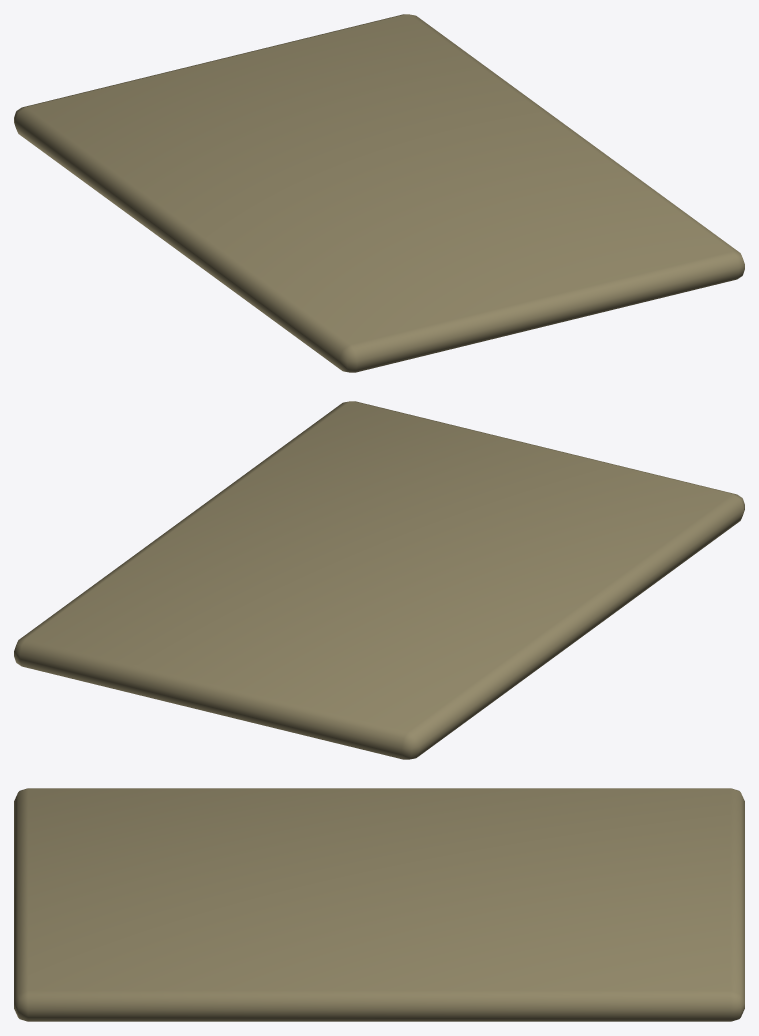
File: trail_tile.glb
3 views of the same model, one above another, from view 1: azimuth 30°, elevation 25°; view 2: azimuth 150°, elevation 25°; view 3: azimuth 270°, elevation 25° (orthographic). The views are drawn at different scales.
Visible parts, largest first — view 1: TrailTile; view 2: TrailTile; view 3: TrailTile.
Part boxes in pixels (x1,y1,x2,y2): TrailTile: (14,14,744,372); TrailTile: (14,401,744,759); TrailTile: (14,788,744,1021).
Size of the model in its own units: 1.8 by 0.12 by 2.6.
